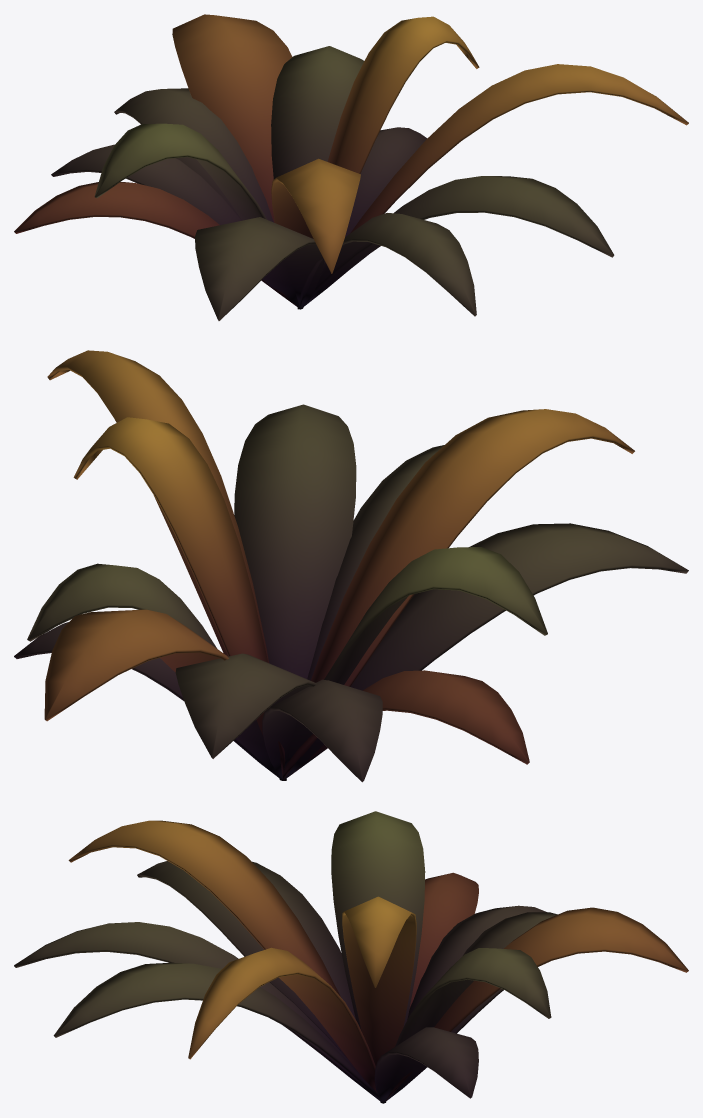
The model's file is SM_Alien_Rosette_02.fbx.
3 renders of one model, top to bottom at view 1: azimuth 30°, elevation 25°; view 2: azimuth 150°, elevation 25°; view 3: azimuth 270°, elevation 25°, orthographic. The views are drawn at different scales.
Visible parts, largest first — view 1: SM_Alien_Rosette_02; view 2: SM_Alien_Rosette_02; view 3: SM_Alien_Rosette_02.
Boxes of the visible parts, <box> form: SM_Alien_Rosette_02: <box>14,14,688,320</box>; SM_Alien_Rosette_02: <box>14,350,688,782</box>; SM_Alien_Rosette_02: <box>14,811,688,1103</box>.
Bounding box in the file's own units: 158 × 175 × 75.07.
